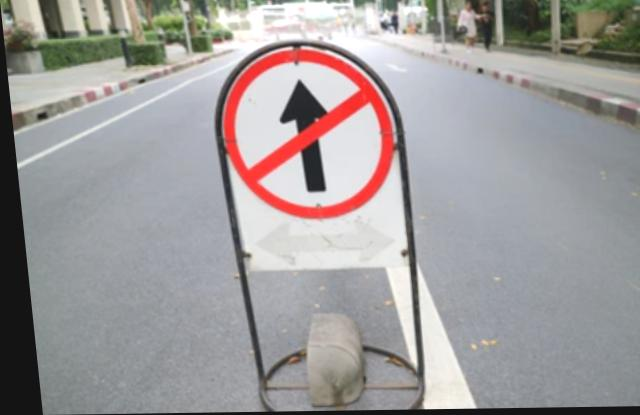not_go_straight: (214, 28, 398, 213)
